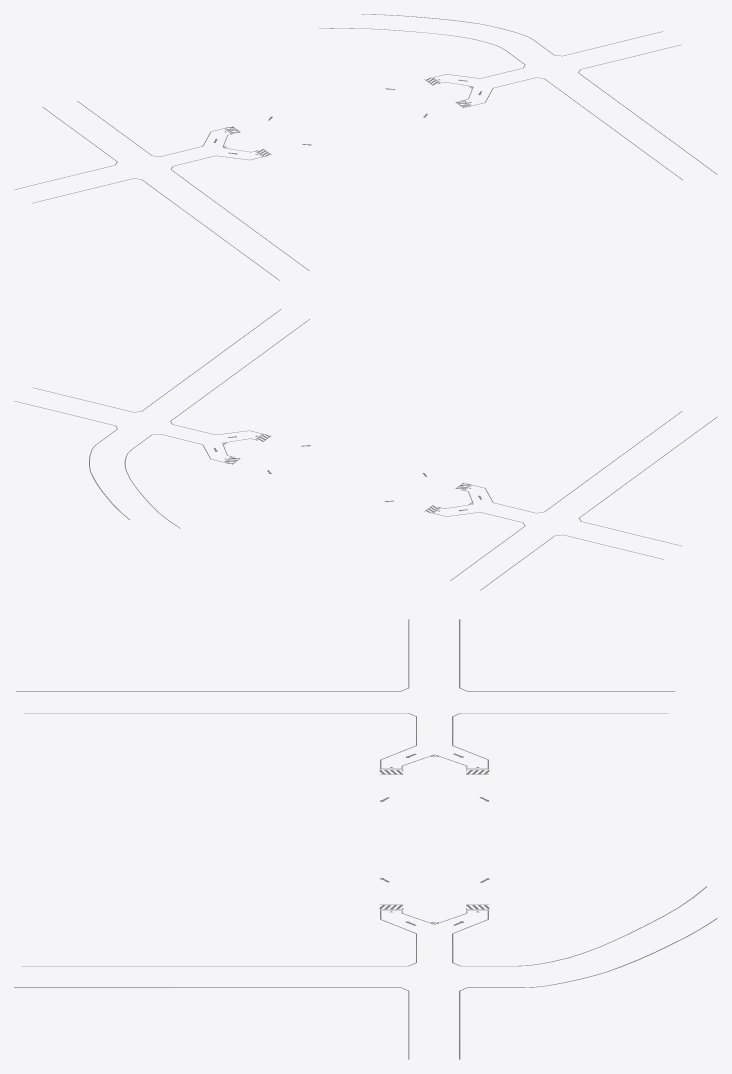
Rendered from pref_sm_4v4_city_hunt01_terrain06_snow_lv3.fbx.
3 views of the same model, one above another, from view 1: azimuth 30°, elevation 25°; view 2: azimuth 150°, elevation 25°; view 3: azimuth 270°, elevation 25° (orthographic). The views are drawn at different scales.
Parts seen in each view (by area): view 1: pref_sm_4v4_city_hunt01_terrain06_snow_lv3; view 2: pref_sm_4v4_city_hunt01_terrain06_snow_lv3; view 3: pref_sm_4v4_city_hunt01_terrain06_snow_lv3.
Boxes of the visible parts, x1,y1,x2,y2 form: pref_sm_4v4_city_hunt01_terrain06_snow_lv3: (14, 14, 717, 280); pref_sm_4v4_city_hunt01_terrain06_snow_lv3: (14, 309, 717, 590); pref_sm_4v4_city_hunt01_terrain06_snow_lv3: (14, 619, 717, 1059).
Bounding box in the file's own units: 194 × 5.74e-06 × 131.
